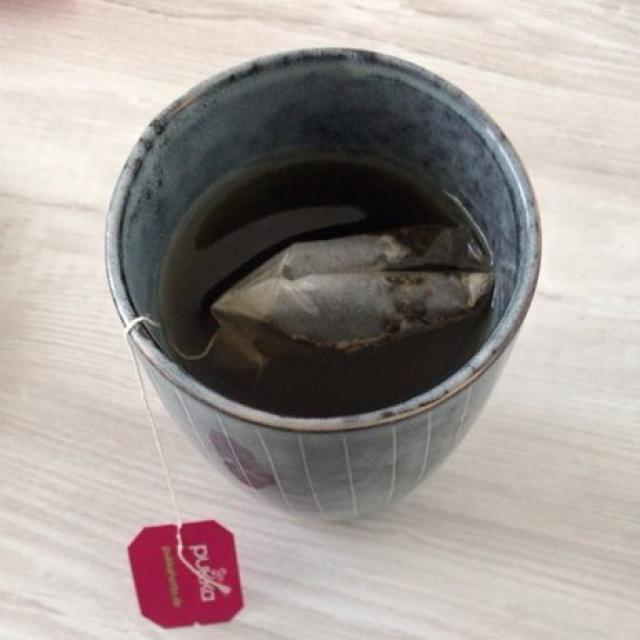herbal-tea: (162, 165, 492, 410)
